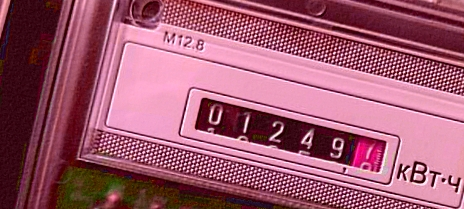0: (206, 100, 226, 128)
1: (237, 107, 255, 135)
2: (266, 118, 286, 146)
4: (298, 124, 318, 151)
7: (361, 134, 380, 162)
9: (326, 133, 347, 161)
screen: (174, 84, 406, 190)
